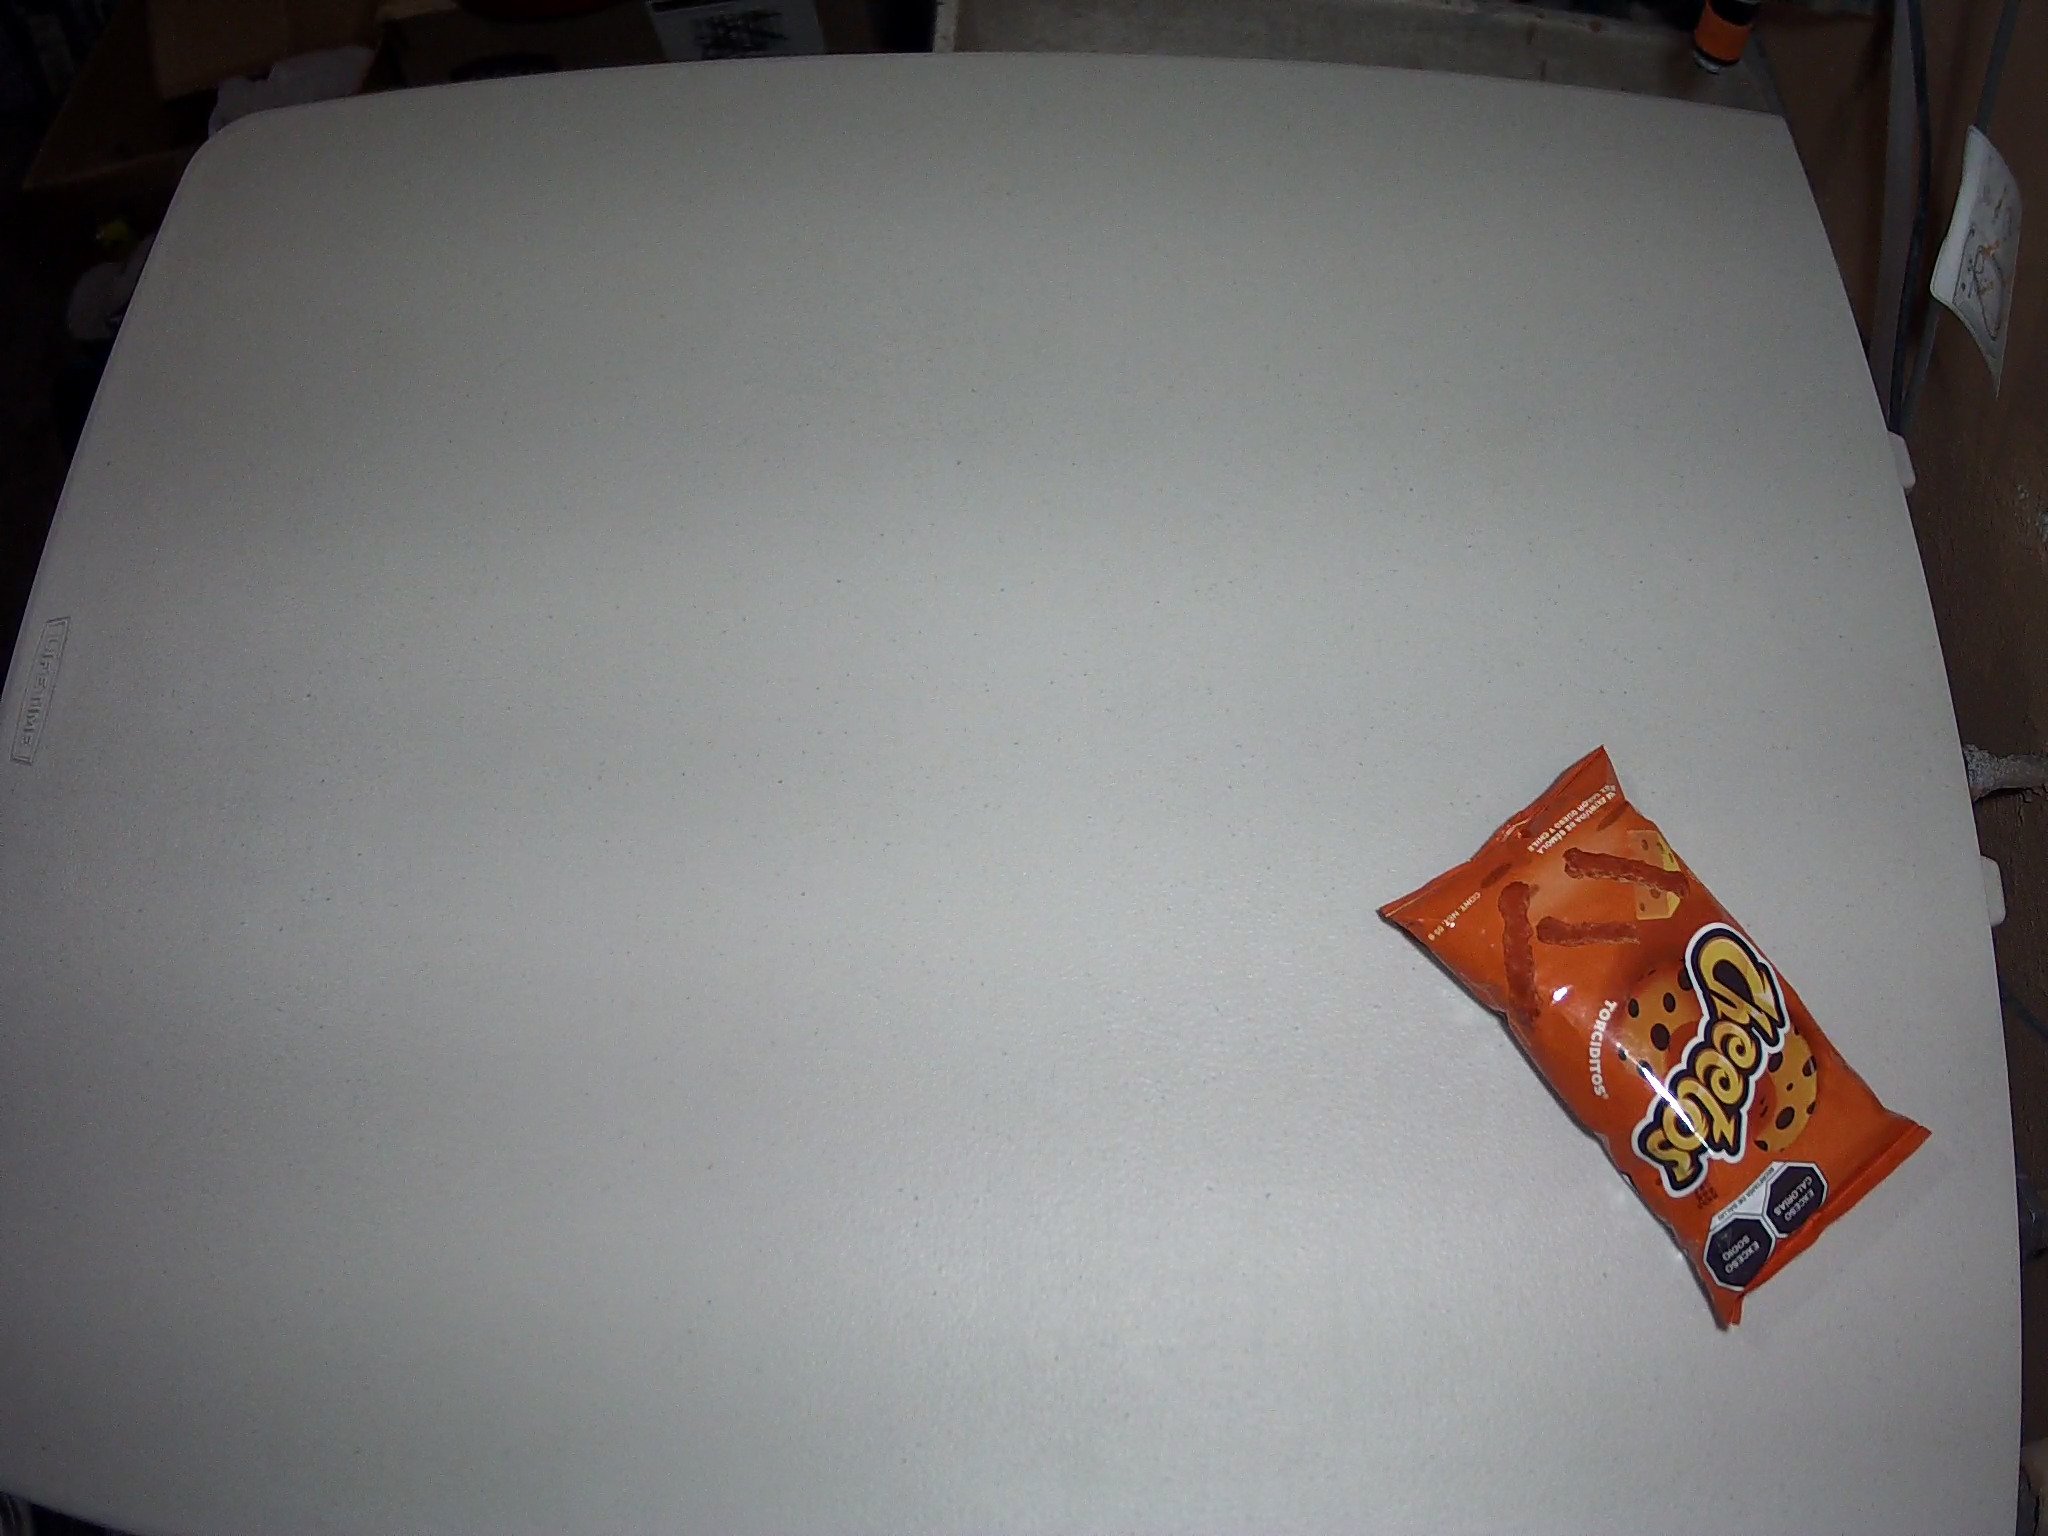CheetosTorciditos_55_F: (1376, 744, 1935, 1329)
